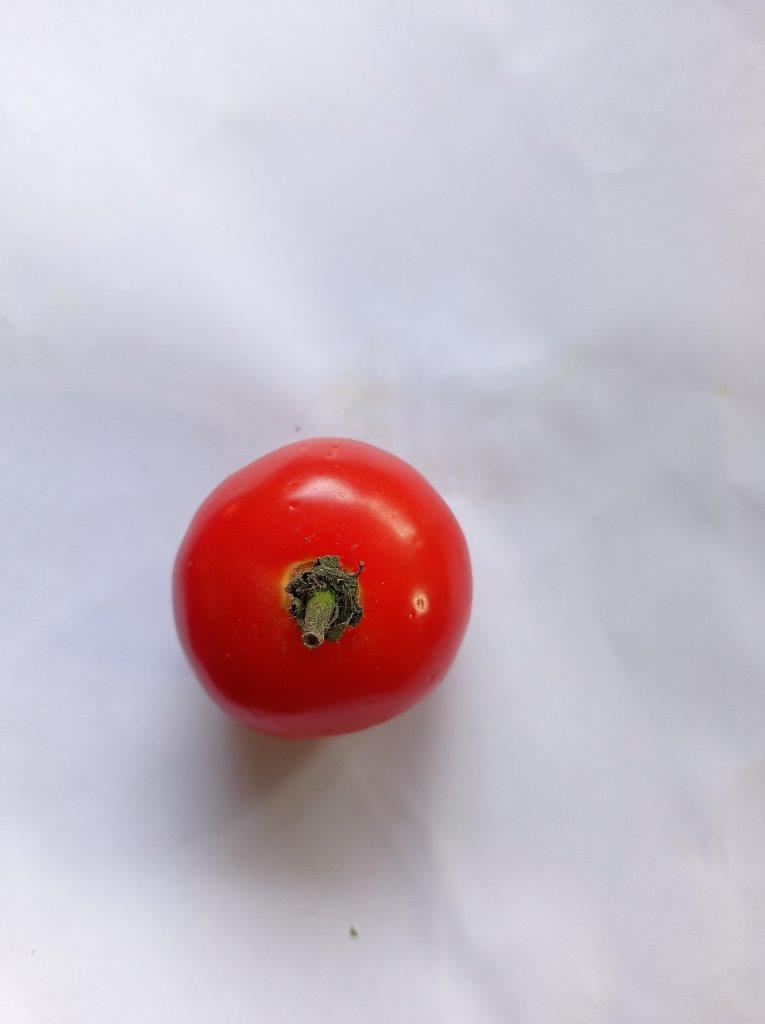tomato: (174, 439, 470, 738)
